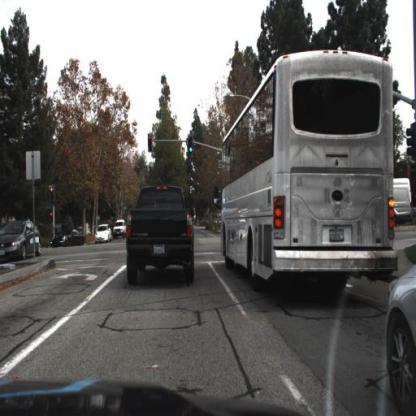car: (123, 182, 195, 285), (2, 220, 44, 261), (50, 228, 88, 249), (113, 217, 129, 242), (95, 224, 113, 245)
trafficLight: (148, 136, 154, 156)
trafficLight-Green: (187, 135, 195, 157)
trafficLight-RedLeft: (49, 185, 58, 210)
truck: (213, 46, 402, 292)
